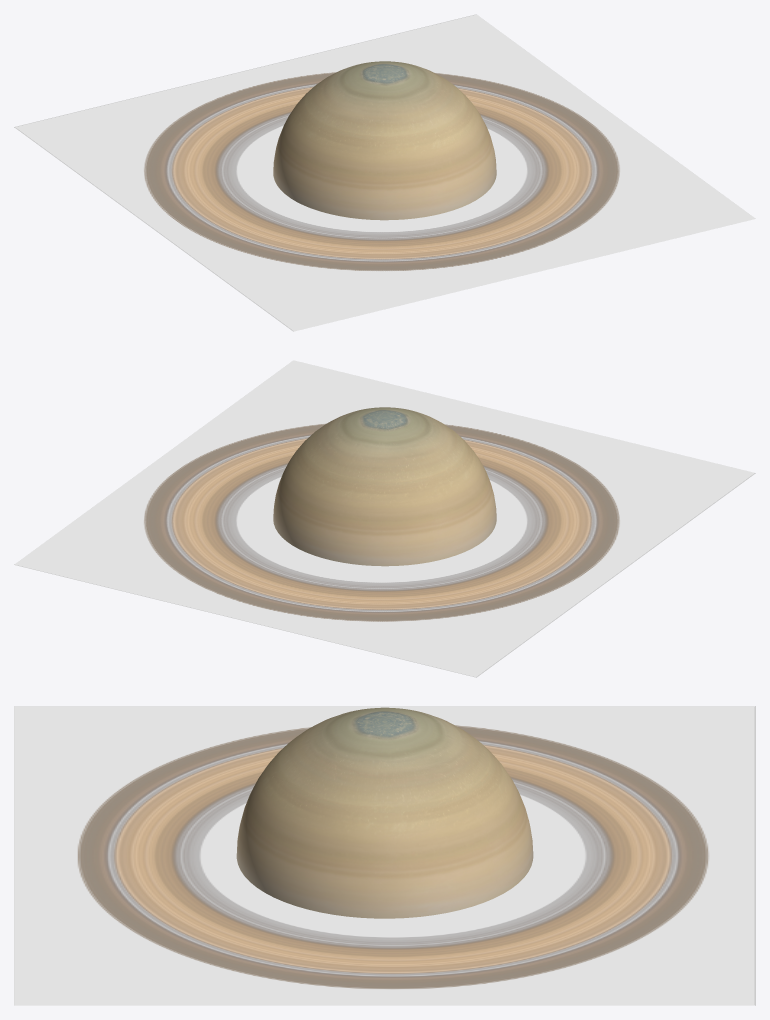
The model's file is saturn.glb.
3 renders of one model, top to bottom at view 1: azimuth 30°, elevation 25°; view 2: azimuth 150°, elevation 25°; view 3: azimuth 270°, elevation 25°, orthographic. The views are drawn at different scales.
Visible parts, largest first — view 1: photodraw.ru-new, Earth; view 2: photodraw.ru-new, Earth; view 3: photodraw.ru-new, Earth.
Boxes of the visible parts, <box> form: photodraw.ru-new: <box>14,14,755,331</box>; Earth: <box>273,61,496,220</box>; photodraw.ru-new: <box>14,360,755,677</box>; Earth: <box>273,407,496,566</box>; photodraw.ru-new: <box>14,706,755,1005</box>; Earth: <box>236,707,533,918</box>.
Size of the model in its own units: 4.78 by 2 by 5.
Materials: 2 (2 with a texture image).
